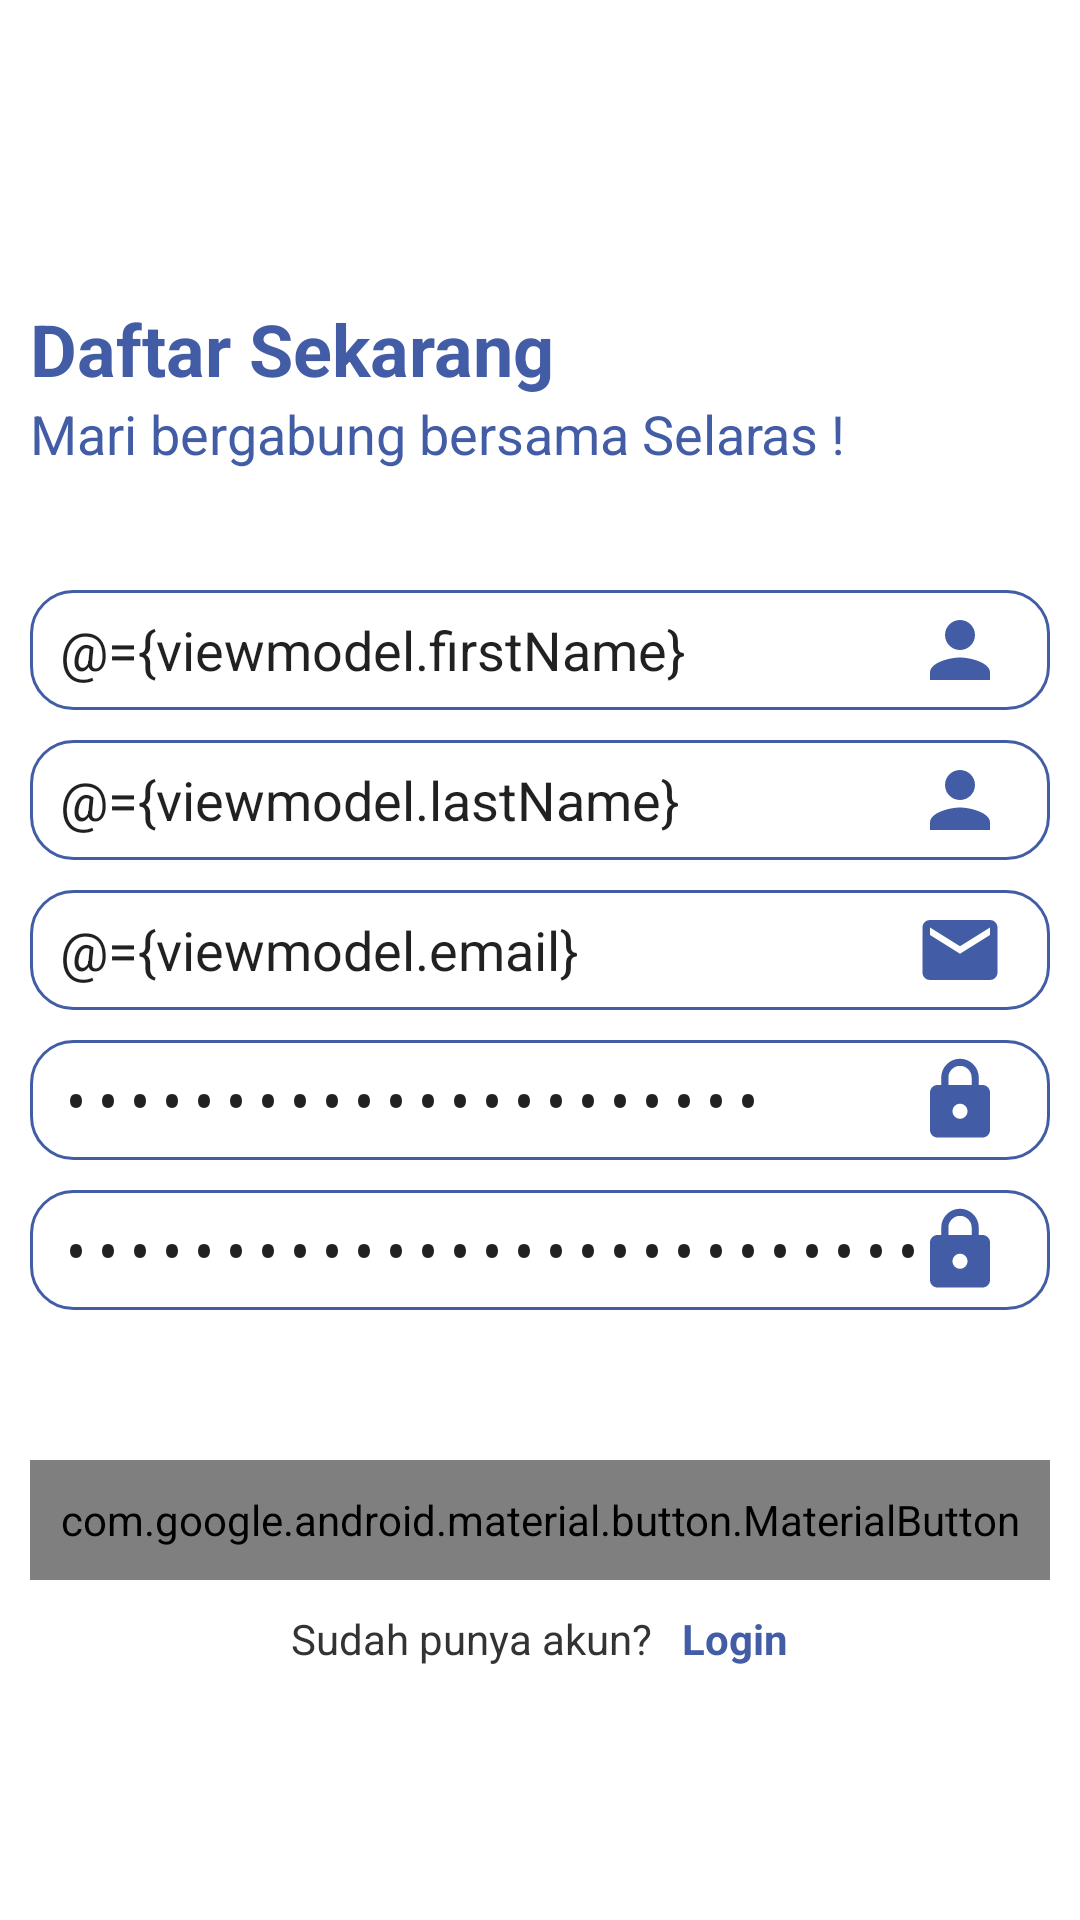

Named icons in this screenshot (1080 x 1920) and their centers, [x,y]:
lock: [960,1098], [960,1248]
person: [960,650], [960,800]
